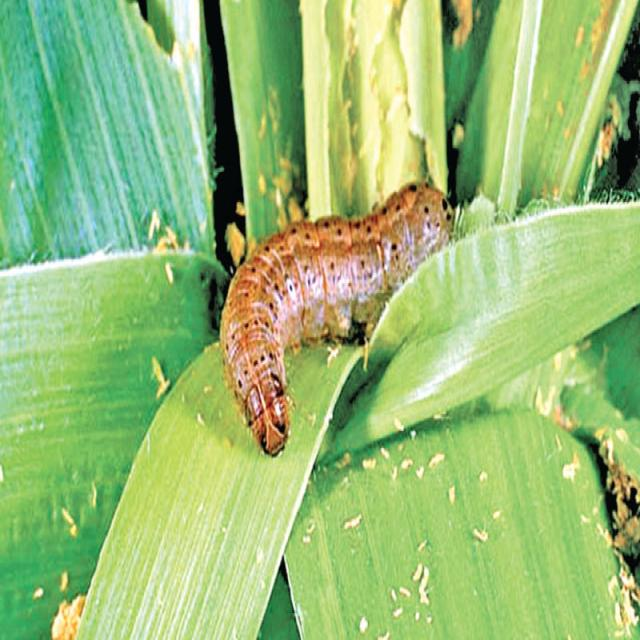Fall-armyworm: (223, 183, 449, 464)
